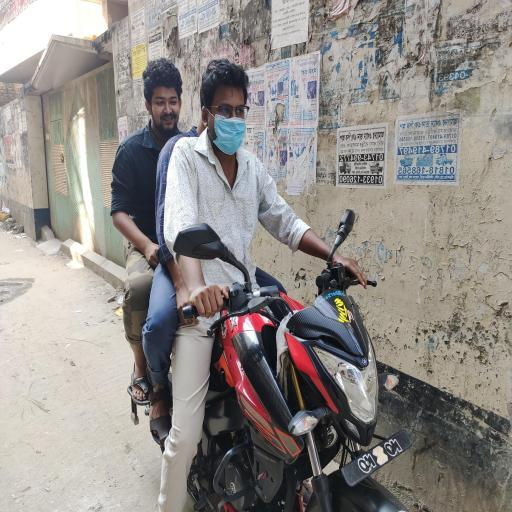no helmet: (188, 52, 271, 191)
triple riding: (112, 34, 428, 512)
